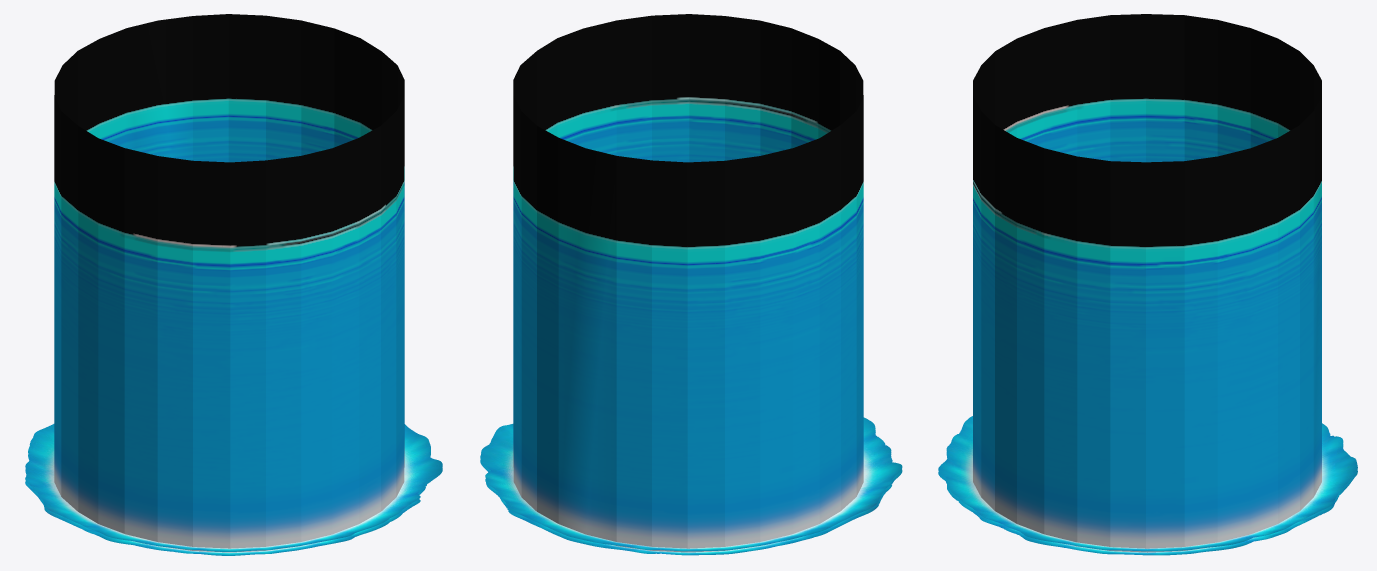
The model's file is CHECK POINT.fbx.
3 renders of one model, left to right at view 1: azimuth 30°, elevation 25°; view 2: azimuth 150°, elevation 25°; view 3: azimuth 270°, elevation 25°, orthographic.
Visible parts, largest first — view 1: ZonaMarcada_erial #2_0, Halo003_ial #3_0, ZonaMarcada_ial #3_0; view 2: ZonaMarcada_erial #2_0, Halo003_ial #3_0, ZonaMarcada_ial #3_0; view 3: ZonaMarcada_erial #2_0, Halo003_ial #3_0, ZonaMarcada_ial #3_0.
Part boxes in pixels (left/top/right/bottom): ZonaMarcada_erial #2_0: left=54, top=14, right=404, bottom=552; Halo003_ial #3_0: left=25, top=424, right=442, bottom=551; ZonaMarcada_ial #3_0: left=25, top=451, right=442, bottom=555; ZonaMarcada_erial #2_0: left=513, top=14, right=863, bottom=552; Halo003_ial #3_0: left=480, top=417, right=902, bottom=551; ZonaMarcada_ial #3_0: left=480, top=434, right=902, bottom=555; ZonaMarcada_erial #2_0: left=973, top=14, right=1321, bottom=552; Halo003_ial #3_0: left=938, top=416, right=1357, bottom=551; ZonaMarcada_ial #3_0: left=938, top=444, right=1357, bottom=555.
Size of the model in its own units: 125 by 125 by 125.
